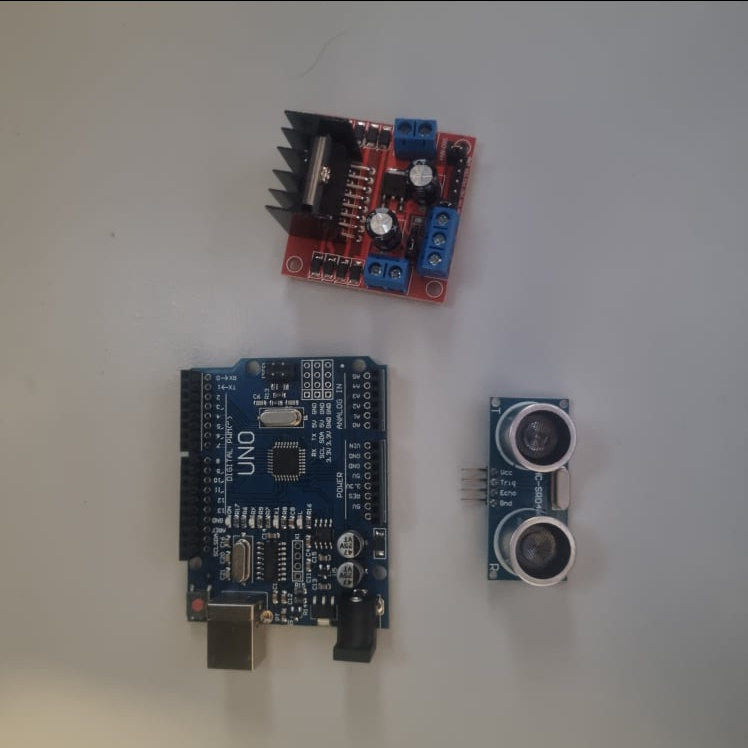MOTOR: (268, 101, 478, 305)
SENSOR: (457, 392, 584, 583)
UNO R3: (176, 352, 393, 669)
